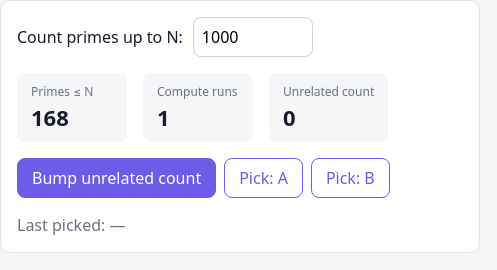
m03 · memoization behaviour › DOES recompute (and updates prime-count) when N changes
The width and height of the screenshot is (497, 270).
Replace the text in the number field with test id "n-input" with "100" at (253,37), box [193,17,313,57]
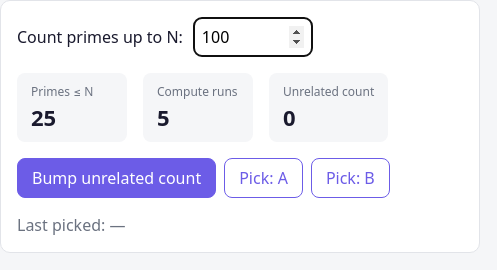
Expected: the text with test id "prime-count" reads "25", [31,102,56,132]
